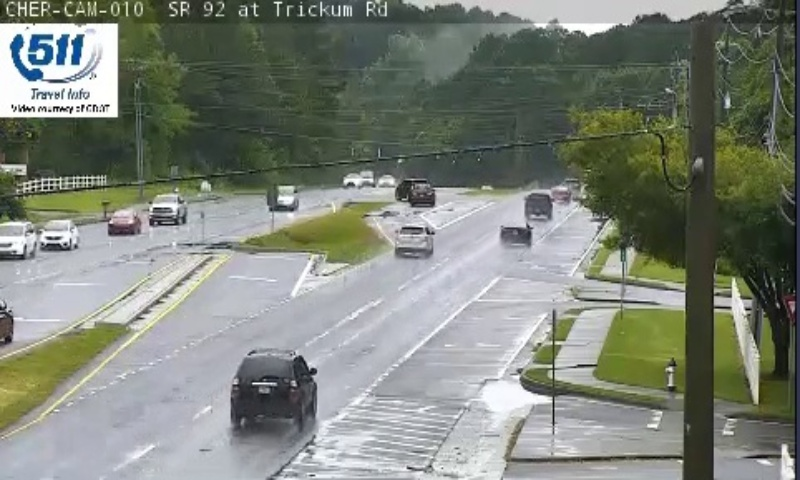car: (229, 348, 318, 420), (394, 225, 432, 254), (499, 220, 532, 247), (524, 191, 553, 216)
